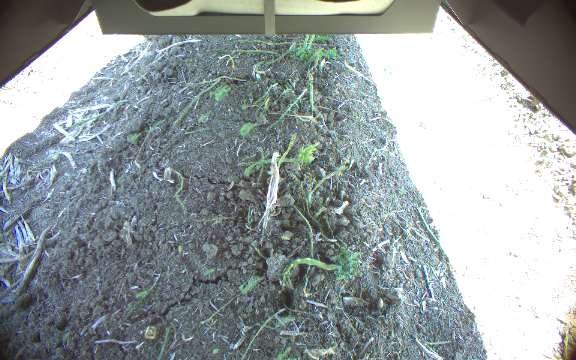aspa: (307, 71, 318, 117), (307, 33, 318, 53), (299, 34, 309, 48)
